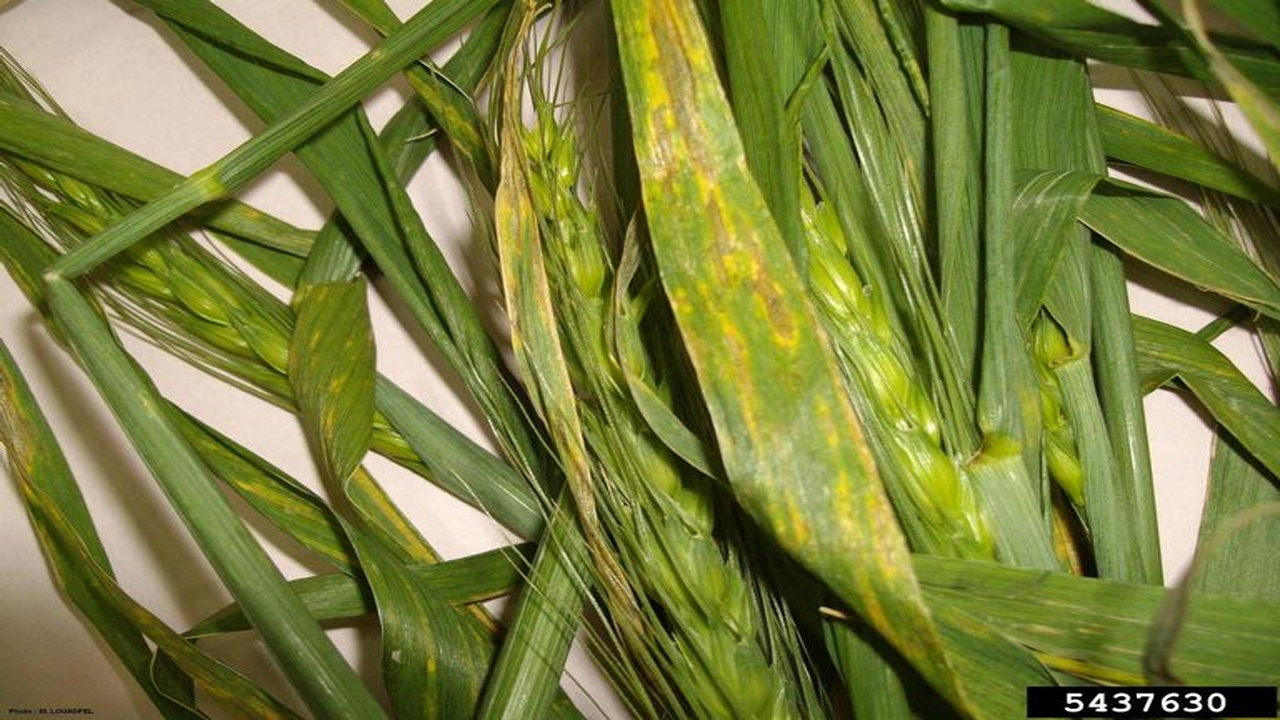tan_spot: (610, 1, 953, 697), (488, 12, 625, 649)
